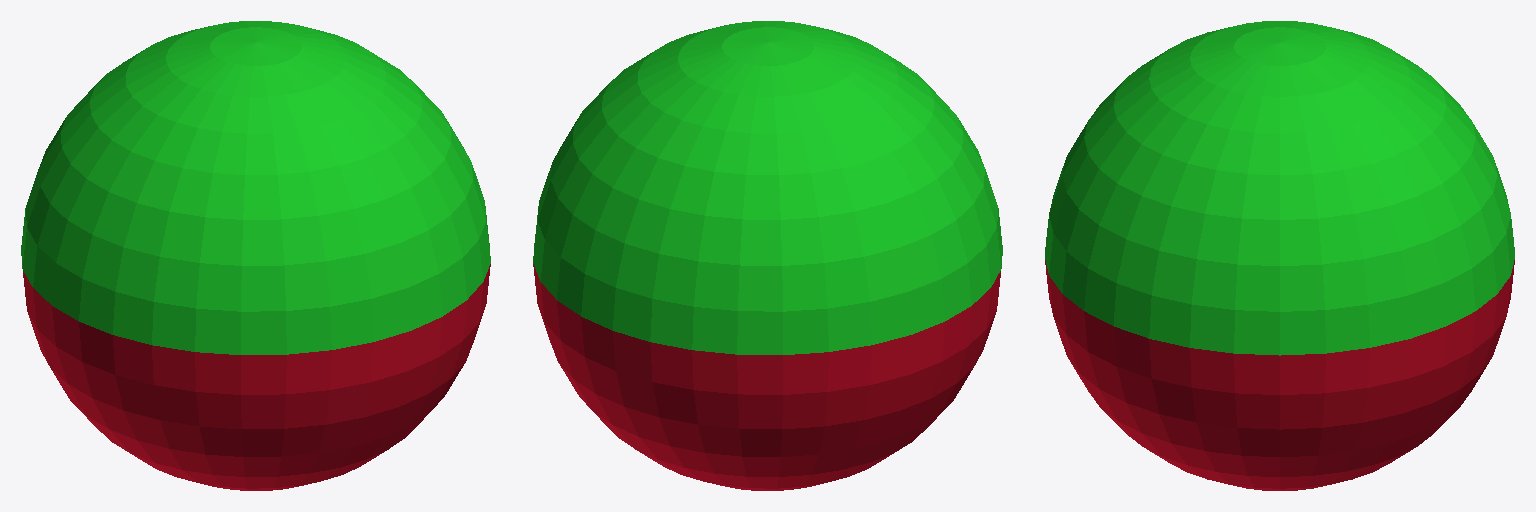
Rendered from multimtl.obj.
The picture shows the model from 3 angles: view 1: azimuth 30°, elevation 25°; view 2: azimuth 150°, elevation 25°; view 3: azimuth 270°, elevation 25°; orthographic projection.
Visible parts, largest first — view 1: Up, Down; view 2: Up, Down; view 3: Up, Down.
Part boxes in pixels (x1,y1,x2,y2): Up: (21,21,490,354); Down: (23,264,490,490); Up: (533,21,1002,354); Down: (533,264,1000,490); Up: (1045,21,1514,355); Down: (1045,260,1514,490).
Size of the model in its own units: 2 by 2 by 2.